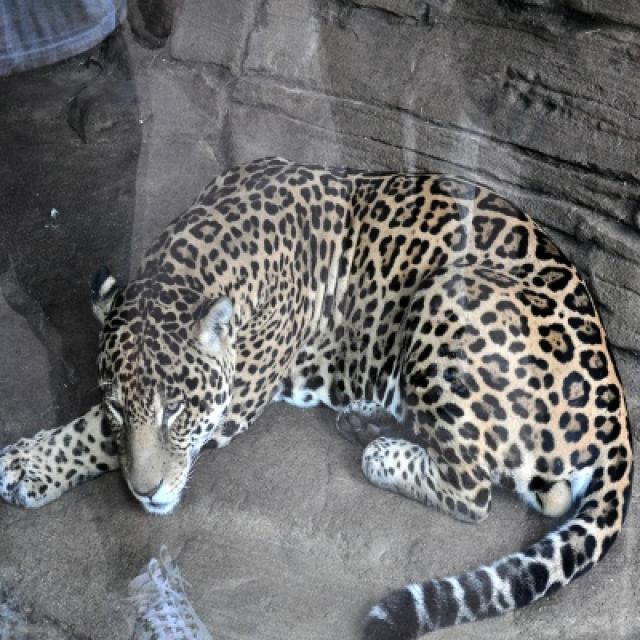Jaguar: (0, 157, 634, 638)
